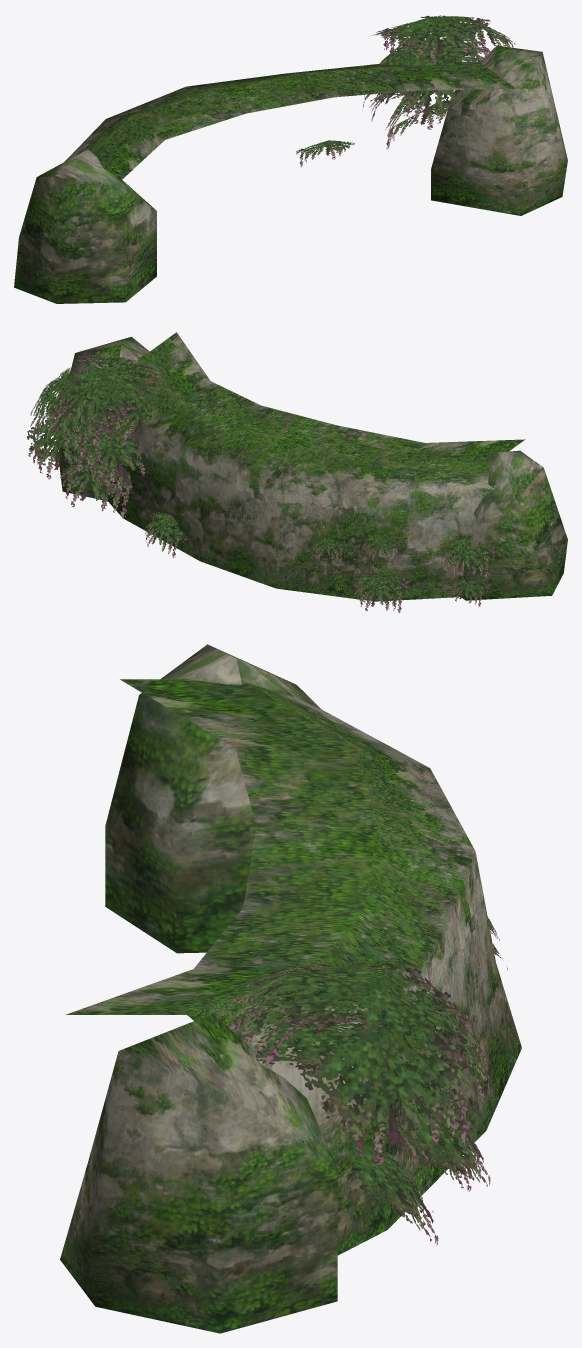
The model's file is cj_graveyard_stonewall02.glb.
3 renders of one model, top to bottom at view 1: azimuth 30°, elevation 25°; view 2: azimuth 150°, elevation 25°; view 3: azimuth 270°, elevation 25°, orthographic. The views are drawn at different scales.
Parts seen in each view (by area): view 1: cj_graveyard_stonewall02, cj_graveyard_stonewall02_grass02; view 2: cj_graveyard_stonewall02, cj_graveyard_stonewall02_grass02; view 3: cj_graveyard_stonewall02, cj_graveyard_stonewall02_grass02.
Part boxes in pixels (x1,y1,x2,y2): cj_graveyard_stonewall02: [14, 45, 567, 303]; cj_graveyard_stonewall02_grass02: [296, 15, 515, 167]; cj_graveyard_stonewall02: [59, 332, 567, 601]; cj_graveyard_stonewall02_grass02: [27, 353, 497, 613]; cj_graveyard_stonewall02: [60, 644, 521, 1333]; cj_graveyard_stonewall02_grass02: [230, 917, 507, 1245].
Bounding box in the file's own units: 24.89 × 6.81 × 9.85.
Materials: 2 (2 with a texture image).
